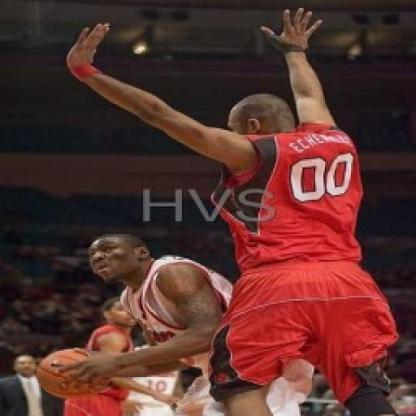basketball: (37, 344, 111, 400)
